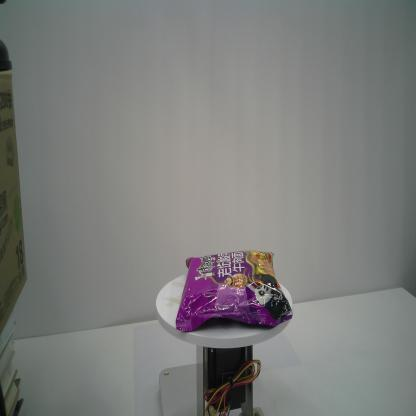Instant Noodles: (175, 247, 294, 336)
